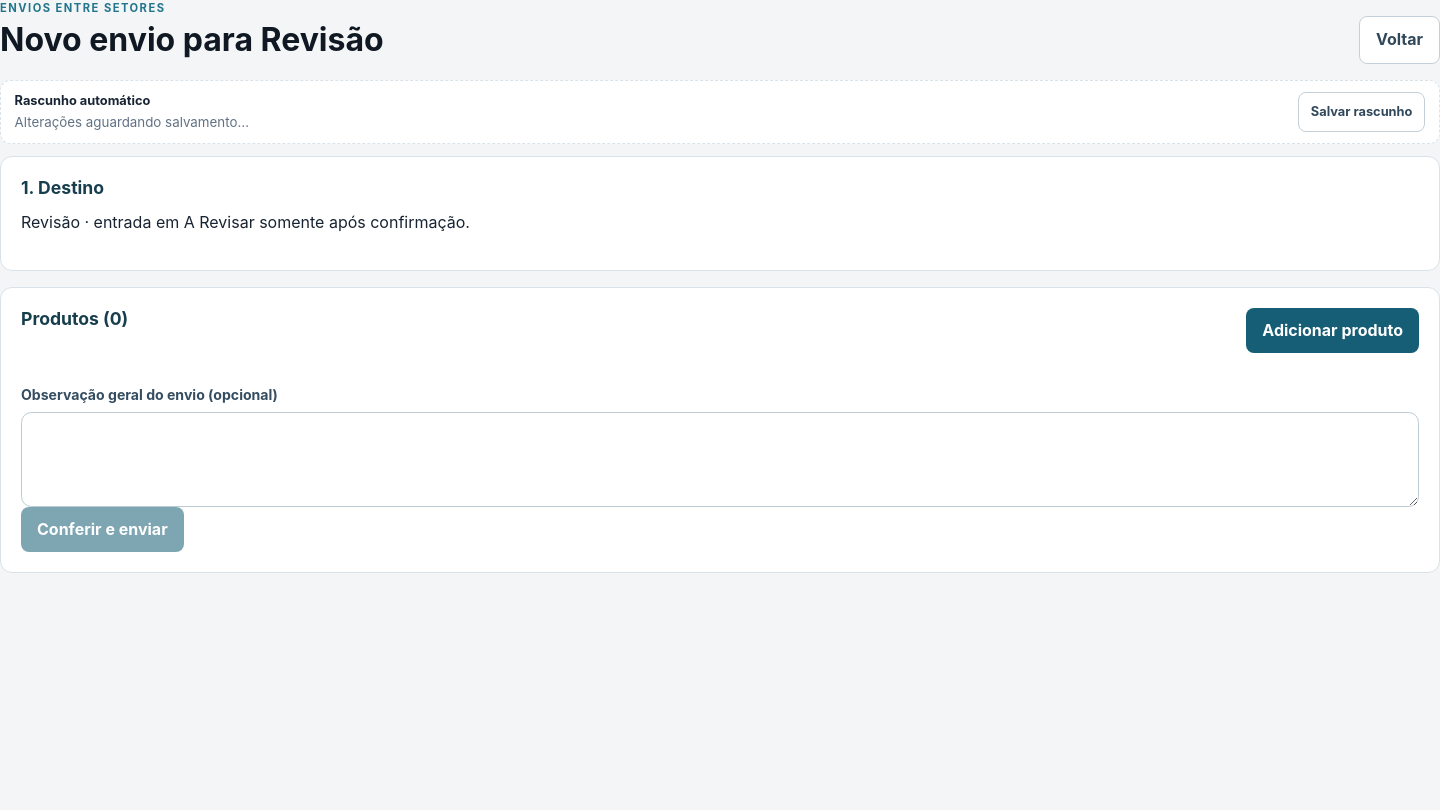
Scenario: rascunhos dos formulários › retoma o editor de produto ainda incompleto e mantém os campos ao salvar e fechar
Click the button "Adicionar produto".
click(1333, 330)  # box x1=1246 y1=308 x2=1419 y2=353
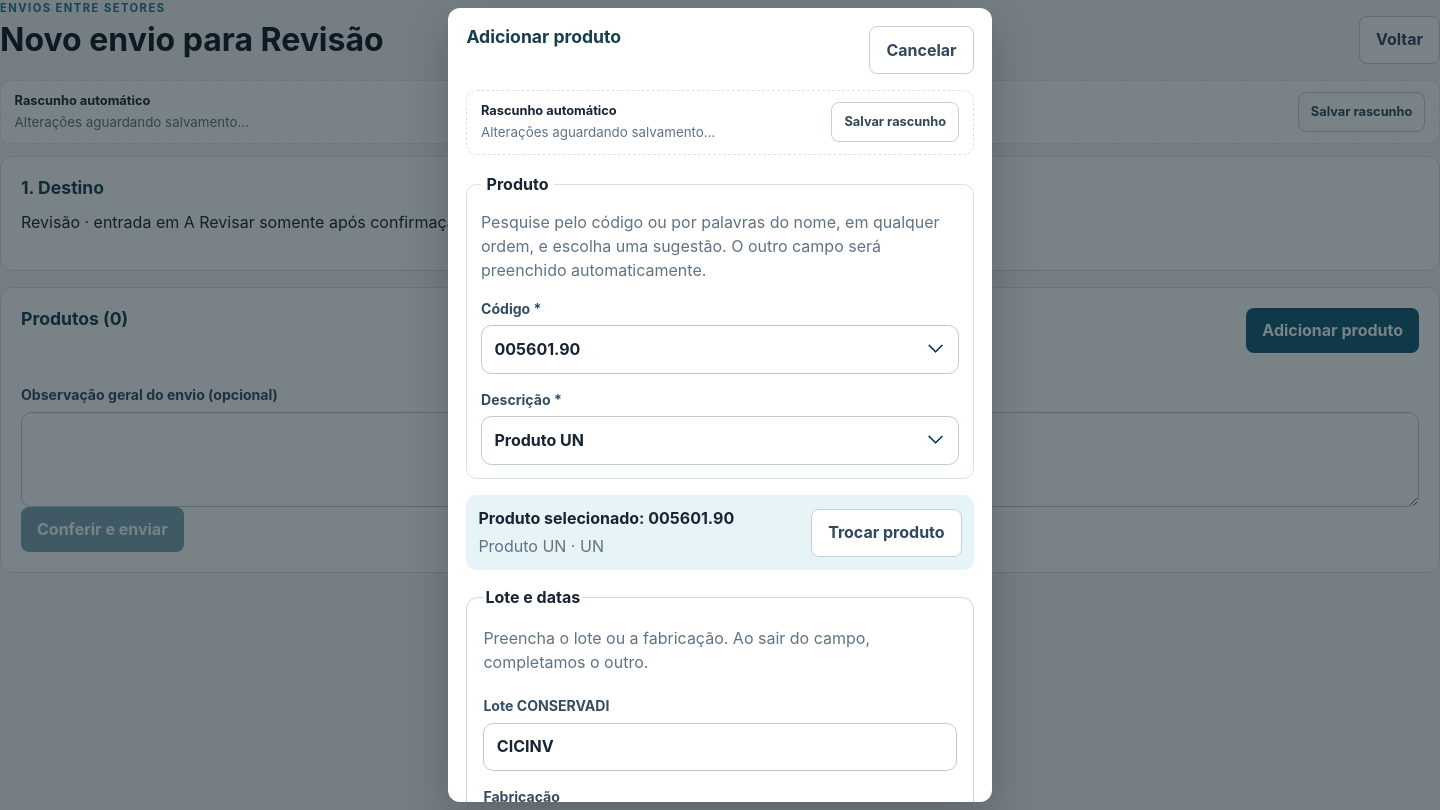
Result: the button "Cancelar" is shown
Click the button "Cancelar".
click(922, 50)  # box x1=869 y1=26 x2=974 y2=74
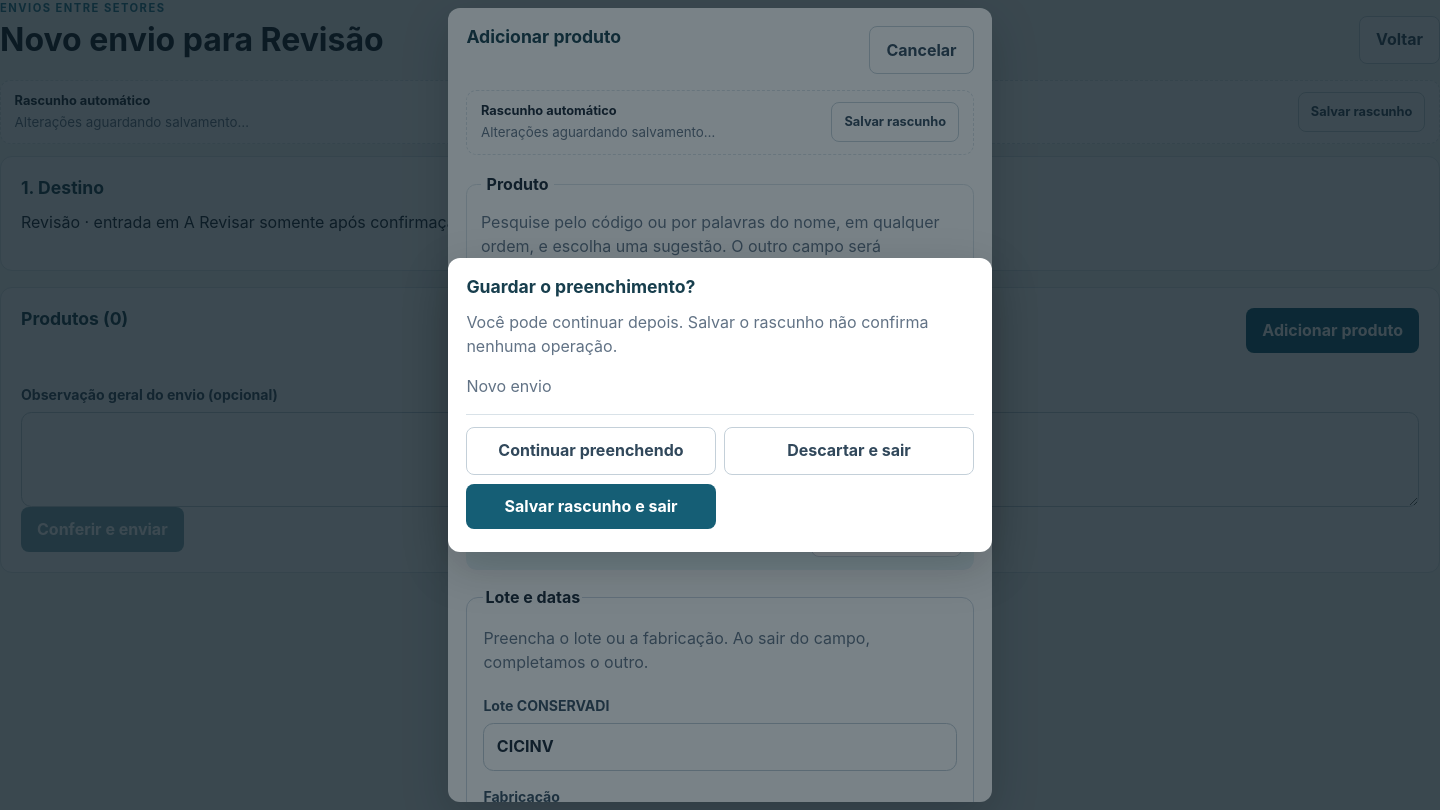
Result: the button "Salvar rascunho e sair" is shown
Click the button "Salvar rascunho e sair".
click(591, 506)  # box x1=466 y1=484 x2=716 y2=529
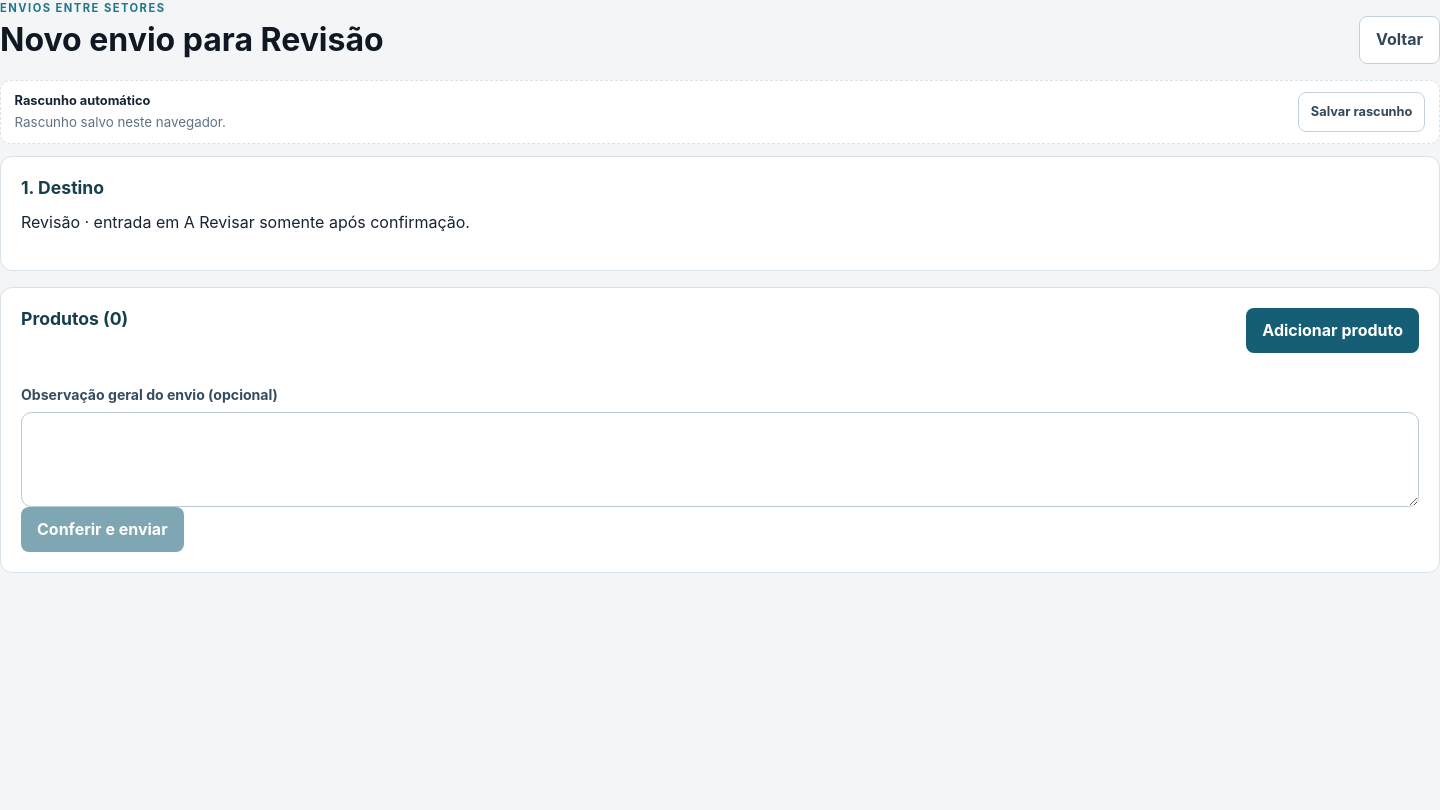
Click the button "Adicionar produto".
click(1333, 330)  # box x1=1246 y1=308 x2=1419 y2=353
(page scrolled)
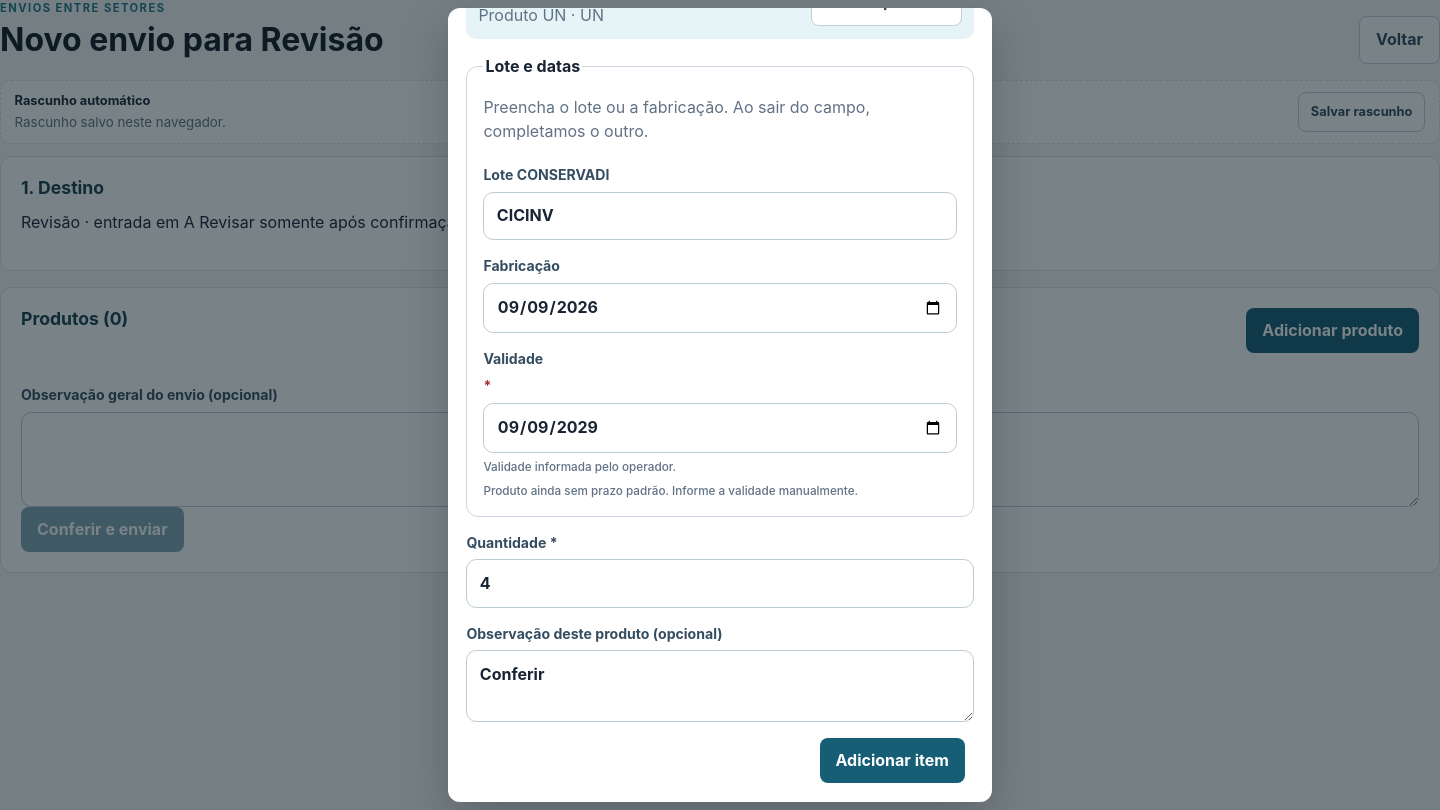
Result: the number field labelled "Quantidade *" holds "4" at x1=466 y1=559 x2=974 y2=608
